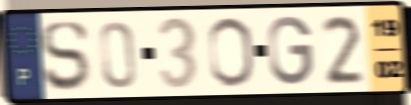0: (97, 19, 138, 91)
2: (318, 13, 367, 87)
3: (156, 15, 202, 92)
G: (266, 13, 315, 88)
O: (206, 15, 257, 90)
S: (39, 18, 91, 94)
